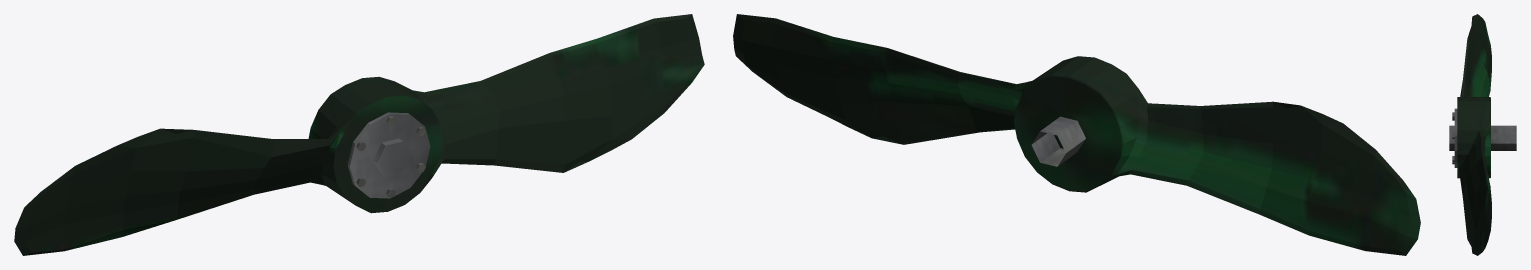
The model's file is helice_avioneta.obj.
The picture shows the model from 3 angles, left to right: view 1: azimuth 30°, elevation 25°; view 2: azimuth 150°, elevation 25°; view 3: azimuth 270°, elevation 25°; orthographic projection. The views are drawn at different scales.
Parts seen in each view (by area): view 1: helice_avioneta:Spowith_f1_camel helice_avioneta:helix helice_av; view 2: helice_avioneta:Spowith_f1_camel helice_avioneta:helix helice_av; view 3: helice_avioneta:Spowith_f1_camel helice_avioneta:helix helice_av.
Part boxes in pixels (x1=…): helice_avioneta:Spowith_f1_camel helice_avioneta:helix helice_av: x1=14, y1=14, x2=704, y2=255; helice_avioneta:Spowith_f1_camel helice_avioneta:helix helice_av: x1=733, y1=14, x2=1420, y2=255; helice_avioneta:Spowith_f1_camel helice_avioneta:helix helice_av: x1=1449, y1=14, x2=1516, y2=255.
Size of the model in its own units: 272 by 52.81 by 36.11.
1 material, 1 textured.
